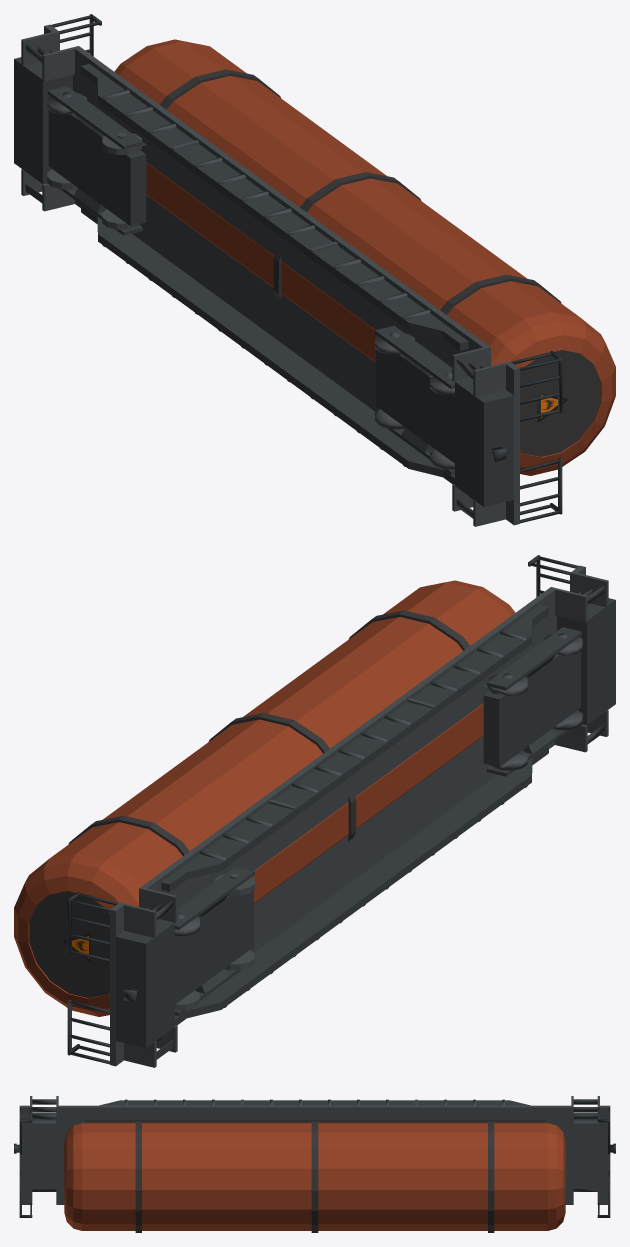
The model's file is TrainTankBroke.fbx.
3 renders of one model, top to bottom at view 1: azimuth 30°, elevation 25°; view 2: azimuth 150°, elevation 25°; view 3: azimuth 270°, elevation 25°, orthographic. The views are drawn at different scales.
Visible parts, largest first — view 1: TrainTank_fracturepart22_2, TrainTank_fracturepart7, TrainTank_fracturepart20_3, TrainTank_fracturepart12, TrainTank_fracturepart13, TrainTank_fracturepart14_5, TrainTank_fracturepart2_2, TrainTank_fracturepart23_2, TrainTank_fracturepart4_2, TrainTank_fracturepart27, TrainTank_fracturepart12_3, TrainTank_fracturepart14 (+31 smaller); view 2: TrainTank_fracturepart20_3, TrainTank_fracturepart7, TrainTank_fracturepart12, TrainTank_fracturepart13, TrainTank_fracturepart2_2, TrainTank_fracturepart26_2, TrainTank_fracturepart23_2, TrainTank_fracturepart4_2, TrainTank_fracturepart13_4, TrainTank_fracturepart27, TrainTank_fracturepart8, TrainTank_fracturepart7_3 (+36 smaller); view 3: TrainTank_fracturepart29, TrainTank_fracturepart21, TrainTank_fracturepart3, TrainTank_fracturepart30, TrainTank_fracturepart25, TrainTank_fracturepart7, TrainTank_fracturepart9, TrainTank_fracturepart20_3, TrainTank_fracturepart28, TrainTank_fracturepart12, TrainTank_fracturepart22_2, TrainTank_fracturepart8 (+26 smaller).
Part boxes in pixels (<box>): TrainTank_fracturepart22_2: <box>462,297,615,475</box>; TrainTank_fracturepart7: <box>452,329,519,526</box>; TrainTank_fracturepart20_3: <box>117,39,275,116</box>; TrainTank_fracturepart12: <box>14,24,113,142</box>; TrainTank_fracturepart13: <box>307,241,382,411</box>; TrainTank_fracturepart14_5: <box>146,94,279,228</box>; TrainTank_fracturepart2_2: <box>400,253,491,326</box>; TrainTank_fracturepart23_2: <box>238,140,373,250</box>; TrainTank_fracturepart4_2: <box>265,202,406,315</box>; TrainTank_fracturepart27: <box>223,261,312,365</box>; TrainTank_fracturepart12_3: <box>47,86,108,183</box>; TrainTank_fracturepart14: <box>140,101,203,275</box>; TrainTank_fracturepart20_3: <box>42,799,197,921</box>; TrainTank_fracturepart7: <box>526,565,615,752</box>; TrainTank_fracturepart12: <box>110,868,185,1006</box>; TrainTank_fracturepart13: <box>379,667,461,857</box>; TrainTank_fracturepart2_2: <box>363,612,483,753</box>; TrainTank_fracturepart26_2: <box>14,912,95,1012</box>; TrainTank_fracturepart23_2: <box>202,730,337,836</box>; TrainTank_fracturepart4_2: <box>296,684,390,823</box>; TrainTank_fracturepart13_4: <box>359,664,459,808</box>; TrainTank_fracturepart27: <box>295,824,384,922</box>; TrainTank_fracturepart8: <box>211,691,330,758</box>; TrainTank_fracturepart7_3: <box>528,627,582,726</box>; TrainTank_fracturepart29: <box>76,1123,178,1232</box>; TrainTank_fracturepart21: <box>347,1140,463,1222</box>; TrainTank_fracturepart3: <box>175,1123,256,1222</box>; TrainTank_fracturepart30: <box>452,1143,538,1227</box>; TrainTank_fracturepart25: <box>252,1168,351,1232</box>; TrainTank_fracturepart7: <box>19,1096,89,1204</box>; TrainTank_fracturepart9: <box>236,1130,318,1202</box>; TrainTank_fracturepart20_3: <box>452,1121,565,1160</box>; TrainTank_fracturepart28: <box>338,1122,441,1192</box>; TrainTank_fracturepart12: <box>534,1096,610,1167</box>; TrainTank_fracturepart22_2: <box>64,1122,119,1230</box>; TrainTank_fracturepart8: <box>270,1121,342,1172</box>.
Size of the model in its own units: 444 by 362 by 1958.
Materials: 1 (1 with a texture image).
